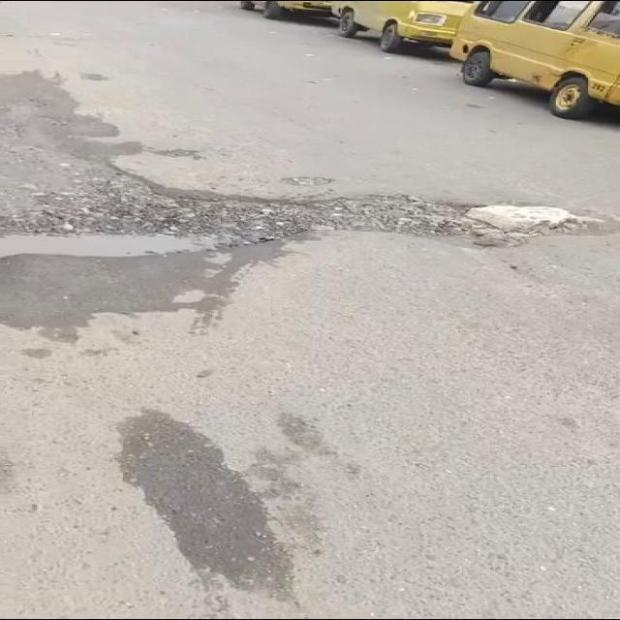lubang: (0, 168, 595, 327)
